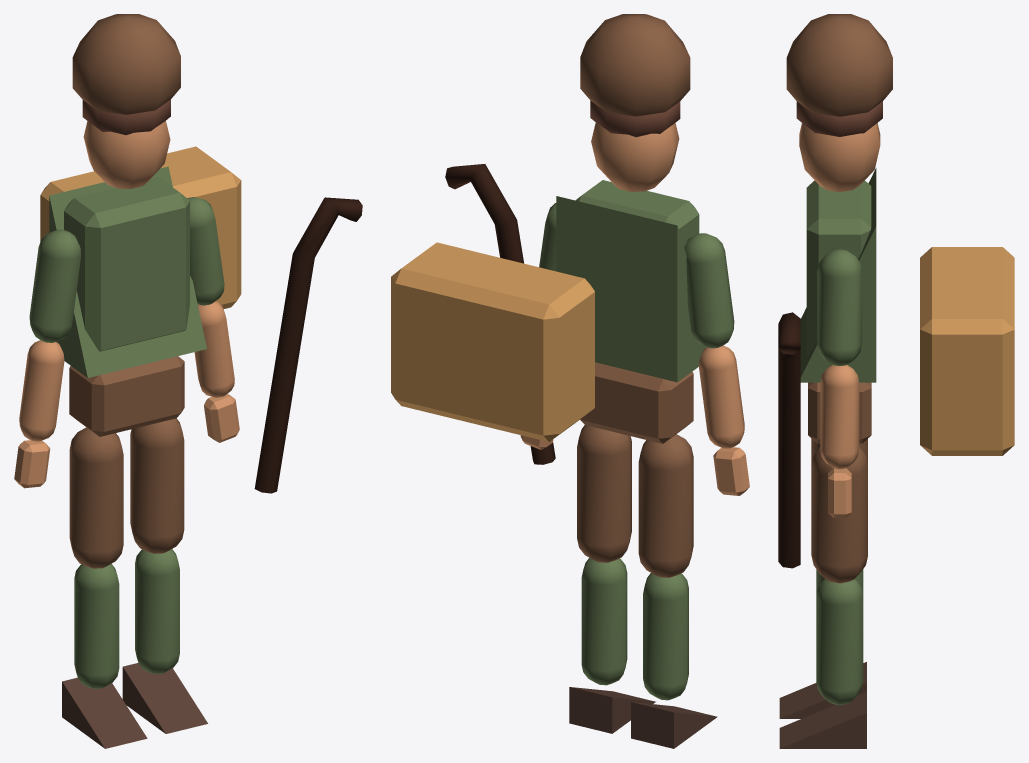
Rendered from adventurer.rustic.glb.
3 views of the same model, side by side, from view 1: azimuth 30°, elevation 25°; view 2: azimuth 150°, elevation 25°; view 3: azimuth 270°, elevation 25° (orthographic).
Visible parts, largest first — view 1: torso, accessory.head, accessory.main-hand, thigh.left, pelvis, thigh.right, accessory.back, tunic, shin.left, shin.right, upper-arm.left, head (+8 smaller); view 2: accessory.back, tunic, accessory.head, thigh.left, thigh.right, pelvis, shin.right, shin.left, upper-arm.left, head, forearm.left, accessory.main-hand (+6 smaller); view 3: accessory.back, accessory.head, accessory.main-hand, shin.right, thigh.right, torso, upper-arm.right, head, tunic, forearm.right, foot.right, hair (+3 smaller).
Boxes of the visible parts, box(x1,y1,x2,y2) form: torso: box(64, 177, 189, 351); accessory.head: box(72, 14, 180, 114); accessory.main-hand: box(254, 197, 362, 493); thigh.left: box(69, 427, 123, 568); pelvis: box(69, 356, 184, 436); thigh.right: box(130, 418, 184, 553); accessory.back: box(40, 146, 241, 308); tunic: box(49, 166, 206, 377); shin.left: box(74, 564, 119, 688); shin.right: box(135, 549, 179, 674); upper-arm.left: box(29, 229, 80, 342); head: box(83, 121, 170, 188); accessory.back: box(391, 242, 594, 441); tunic: box(556, 196, 706, 382); accessory.head: box(580, 14, 690, 116); thigh.left: box(638, 434, 693, 577); thigh.right: box(577, 425, 631, 562); pelvis: box(580, 362, 693, 443); shin.right: box(581, 558, 627, 685); shin.left: box(643, 573, 688, 700); upper-arm.left: box(684, 233, 734, 348); head: box(591, 122, 679, 191); forearm.left: box(699, 345, 744, 448); accessory.main-hand: box(445, 164, 555, 464); accessory.back: box(920, 247, 1014, 455); accessory.head: box(786, 14, 892, 116); accessory.main-hand: box(778, 312, 800, 568); shin.right: box(816, 579, 863, 705); thigh.right: box(811, 447, 867, 583); torso: box(806, 180, 871, 354); upper-arm.right: box(817, 249, 862, 365); head: box(799, 123, 880, 191); tunic: box(800, 168, 876, 382); forearm.right: box(820, 365, 859, 469); foot.right: box(779, 691, 866, 748); hair: box(796, 101, 882, 136).
Size of the model in its own units: 1.57 by 3.29 by 1.
